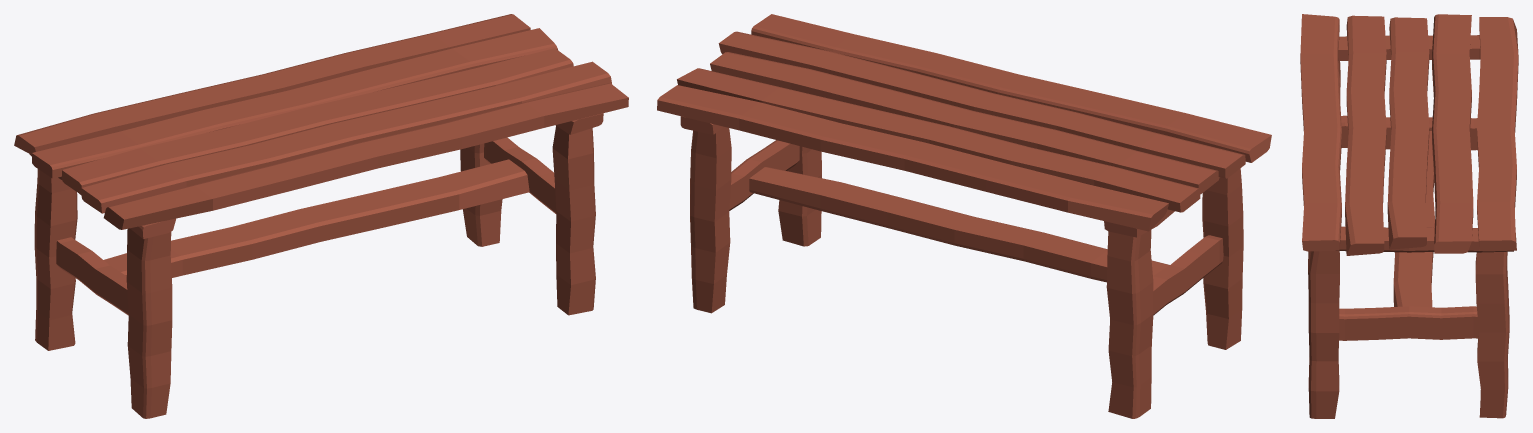
The model's file is table.fbx.
The picture shows the model from 3 angles, left to right: view 1: azimuth 30°, elevation 25°; view 2: azimuth 150°, elevation 25°; view 3: azimuth 270°, elevation 25°; orthographic projection. The views are drawn at different scales.
Parts seen in each view (by area): view 1: table; view 2: table; view 3: table.
Part boxes in pixels (x1,y1,x2,y2): table: (14, 14, 628, 418); table: (657, 14, 1271, 418); table: (1300, 14, 1518, 418).
Size of the model in its own units: 200 by 77.96 by 80.14.
1 material, 1 textured.
